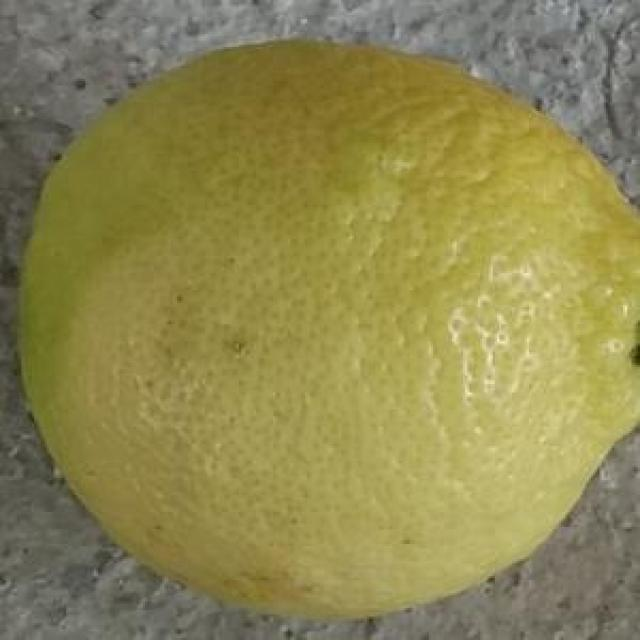lemon: (16, 36, 640, 640)
